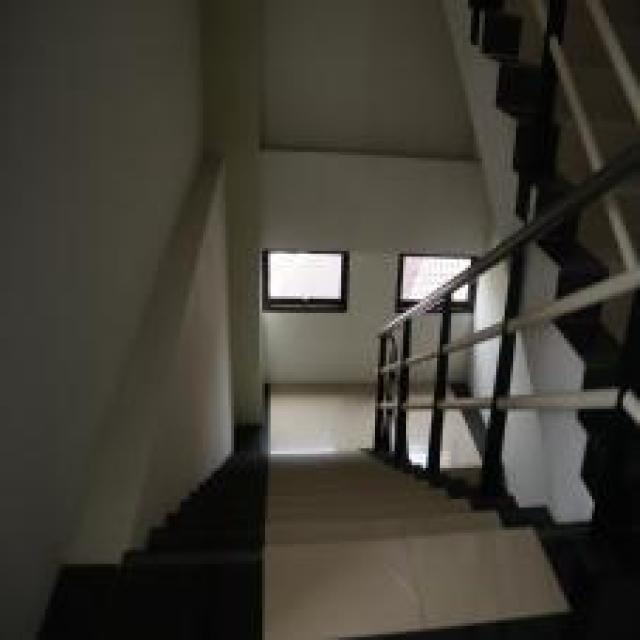downstair: (193, 455, 430, 638)
